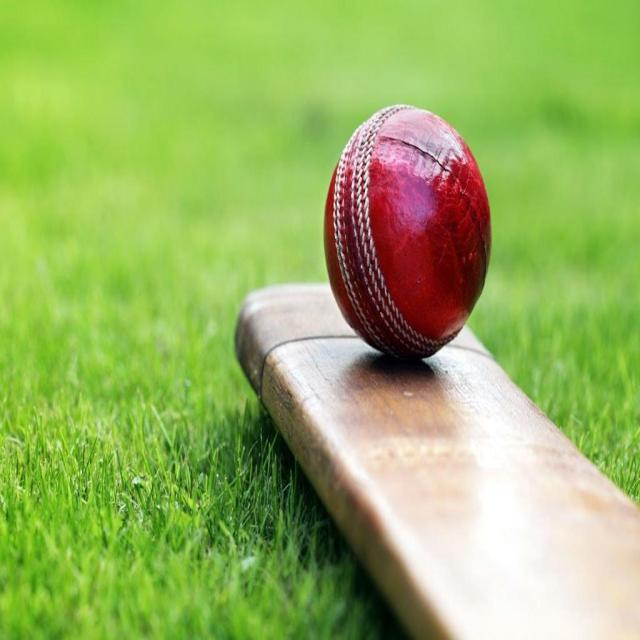ball: (321, 105, 494, 361)
